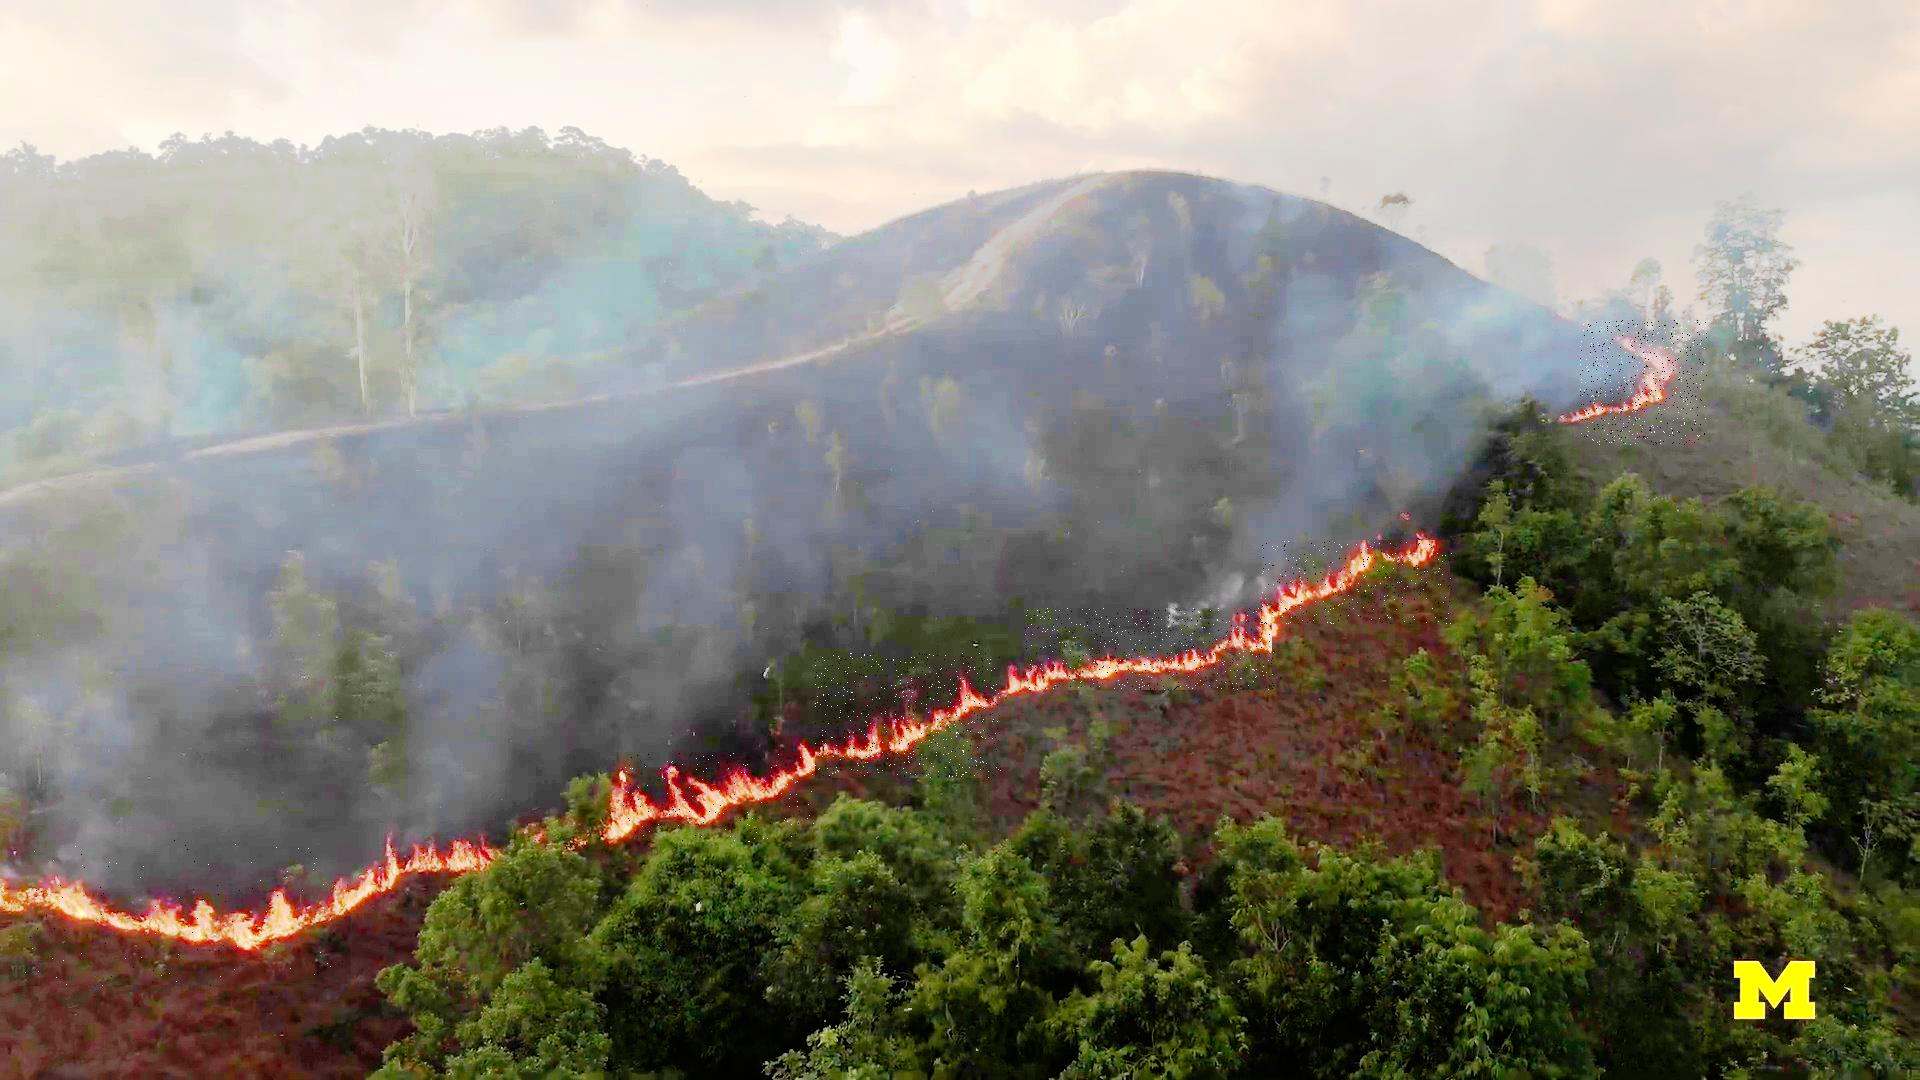fire: (11, 839, 351, 986), (815, 653, 1001, 778), (1026, 608, 1275, 690), (622, 753, 815, 843), (1263, 541, 1453, 625), (1580, 320, 1708, 444)
